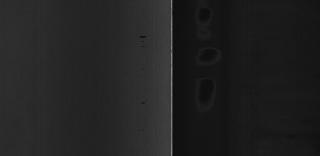oil spot: (138, 29, 150, 54), (138, 98, 152, 108)
